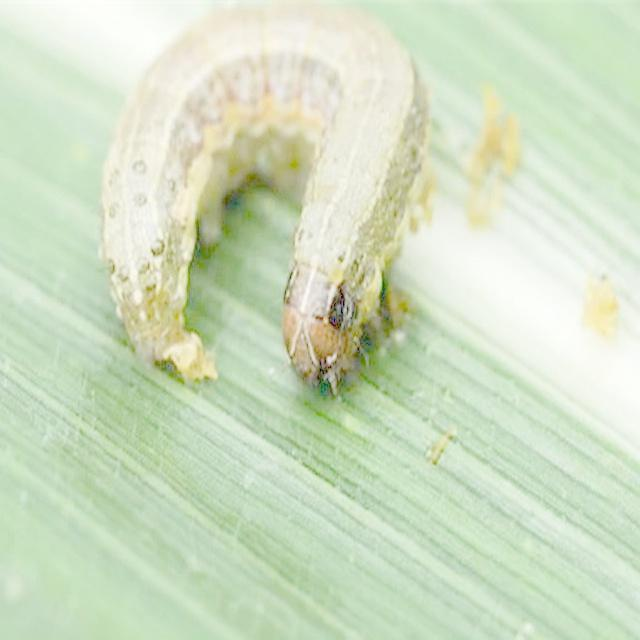Plaga: (93, 1, 440, 400)
